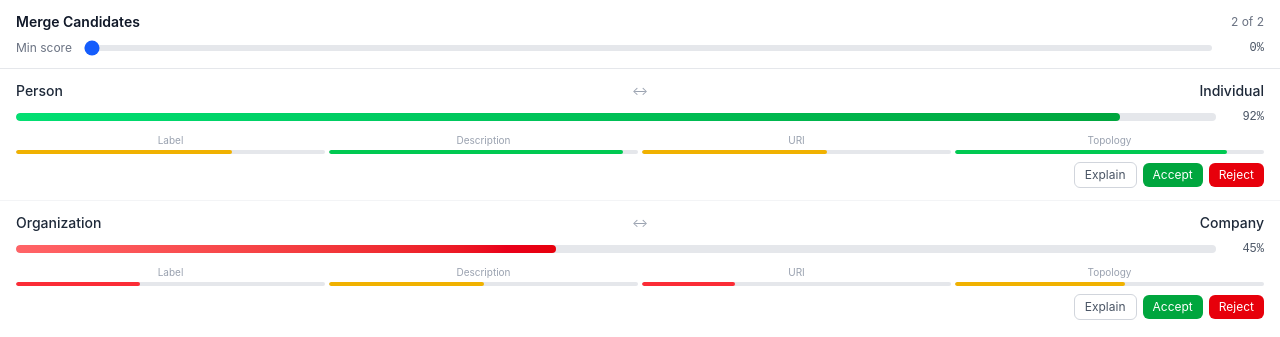
Scenario: MergeCandidates › filters candidates by score threshold
Expected: the list item with test id "candidate-pair_001" is shown, [0,69,1279,201]
Set the slider with test id "score-threshold-slider" to "50" at (648, 48), box [84,45,1212,51]
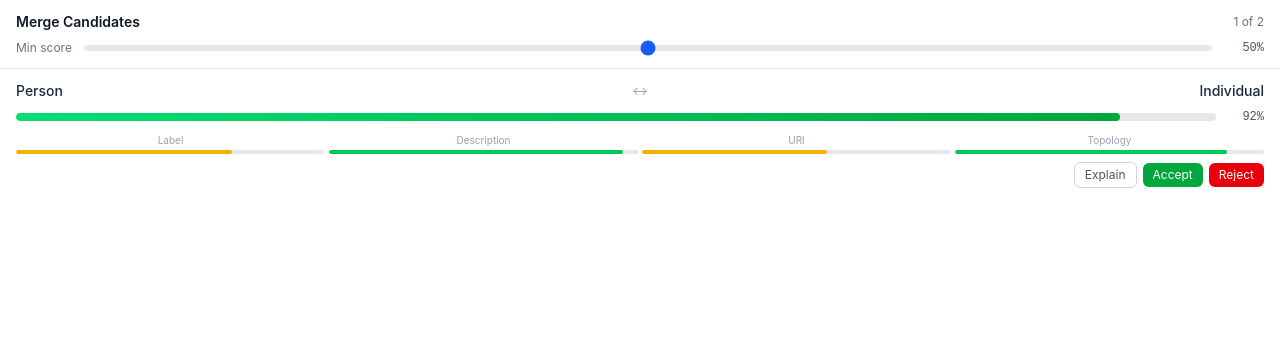
Expected: the list item with test id "candidate-pair_001" is shown, [0,69,1279,200]
Now the list item with test id "candidate-pair_002" is gone
